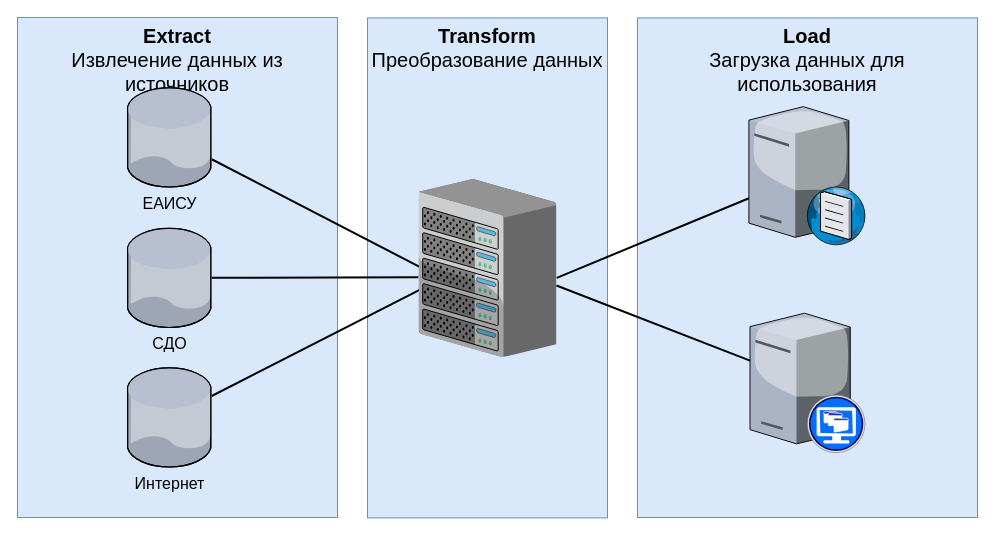
Some shapes in this 995 by 536 pixel diagram are drawn without their labels. The shapes that lost their labels are listed below. From the top down, each one's centre as x and y in pixels, then its label:
At point (807, 173): "Разведочный анализ данных".
At point (807, 382): "Машинное обучение".
